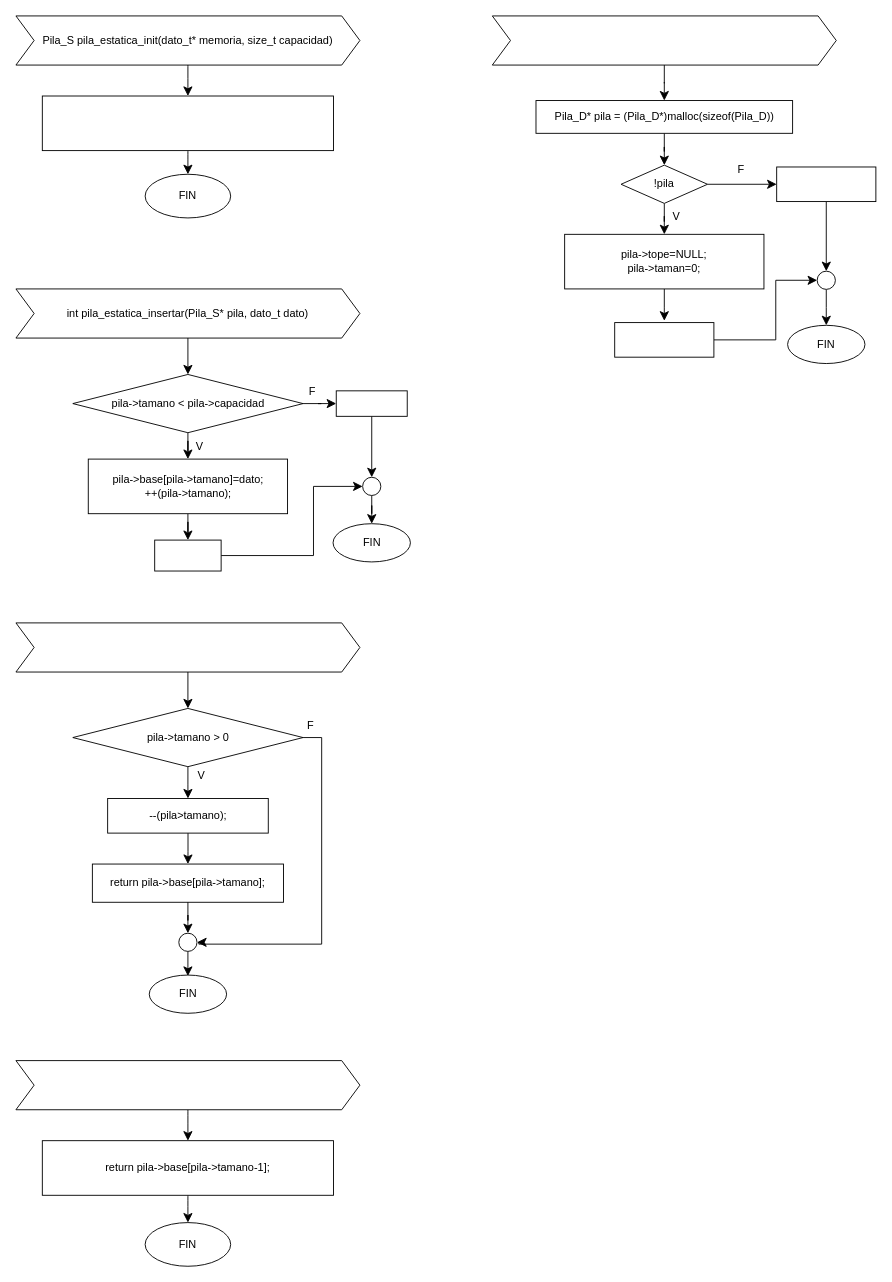
The diagram is 892 pixels wide and 1282 high, and some of its shapes have lost their labels. Here are the shapes that lost their labels. From the top down, the centre of each, then its label:
(663,40): Pila_D* pila_dinamica_crear(void)
(187,123): return (Pila_S){.base=memoria, .tamano=0, .capacidad=capacidad};
(826,184): return NULL;
(664,339): return pila;
(371,403): return 0;
(187,555): return 1;
(187,647): dato_t pila_estatica_pop(Pila_S* pila)
(187,1085): dato_t pila_estatica_get(const Pila_S* pila)
